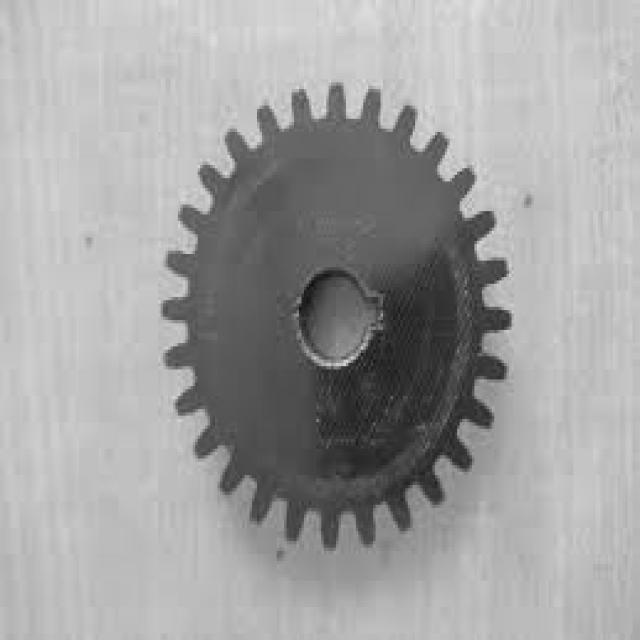No Fault: (131, 53, 554, 578)
